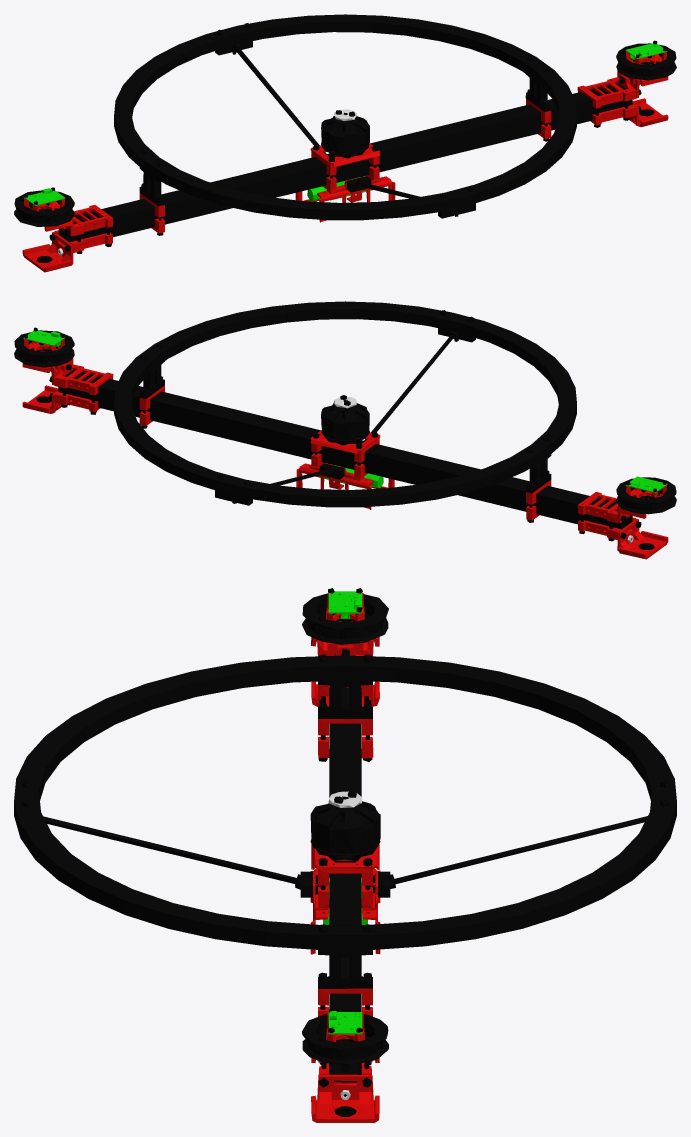
The picture shows the model from 3 angles, top to bottom: view 1: azimuth 30°, elevation 25°; view 2: azimuth 150°, elevation 25°; view 3: azimuth 270°, elevation 25°; orthographic projection. The views are drawn at different scales.
Parts seen in each view (by area): view 1: link2_black_part, link2_red_part, link2_green_part; view 2: link2_black_part, link2_red_part, link2_green_part; view 3: link2_black_part, link2_red_part, link2_green_part.
Boxes of the visible parts, <box> form: link2_black_part: <box>14,14,676,262</box>; link2_red_part: <box>22,51,668,272</box>; link2_green_part: <box>23,43,667,205</box>; link2_black_part: <box>14,301,676,549</box>; link2_red_part: <box>22,338,668,559</box>; link2_green_part: <box>23,330,667,492</box>; link2_black_part: <box>14,588,676,1116</box>; link2_red_part: <box>310,593,380,1122</box>; link2_green_part: <box>323,591,367,1034</box>.
Bounding box in the file's own units: 0.6528 × 0.3997 × 0.0912.
